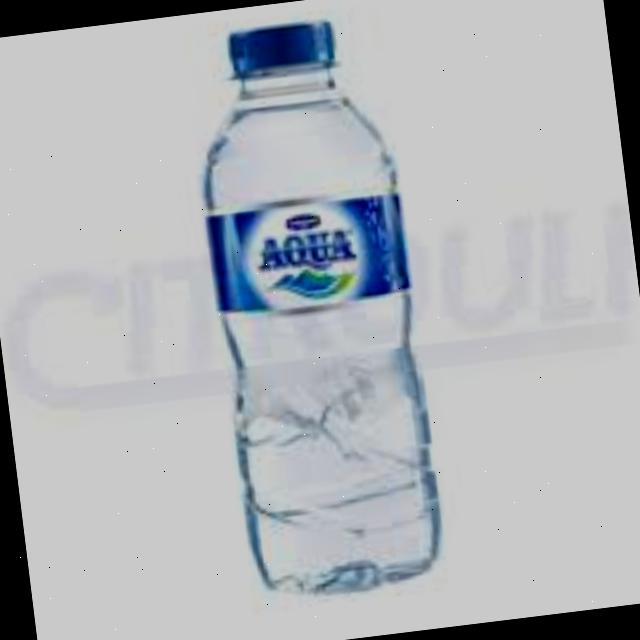trash: (177, 4, 454, 608)
